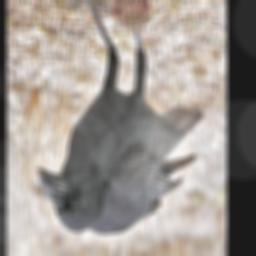Crow: (37, 0, 204, 236)
